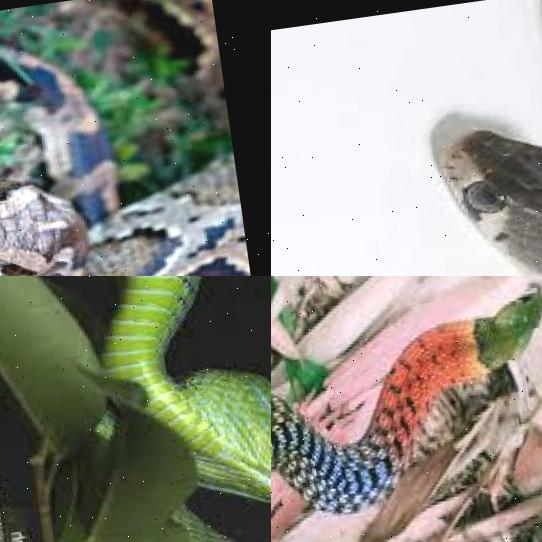2: (271, 276, 542, 542), (434, 0, 542, 276)
4: (0, 276, 271, 542)
snake: (0, 0, 271, 276)
